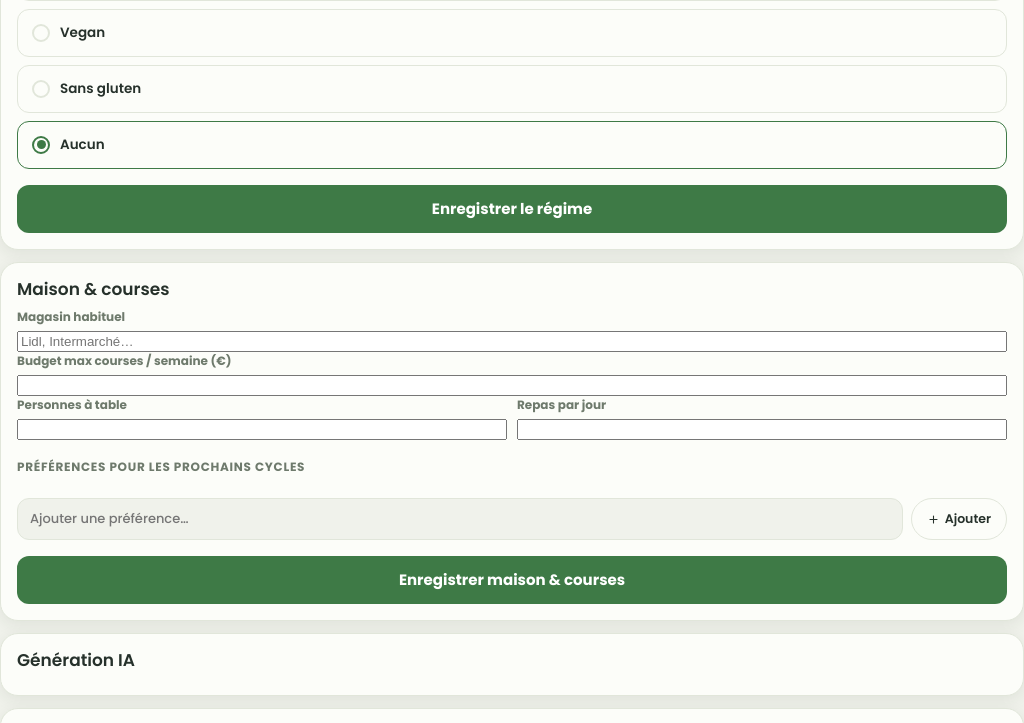
ProfilScreen — Maison & courses › enregistre la section (validation incluse)
The image size is (1024, 723).
(page scrolled)
In the field labelled "Magasin habituel": x=512, y=342 [17,331,1007,352], type "Lidl"
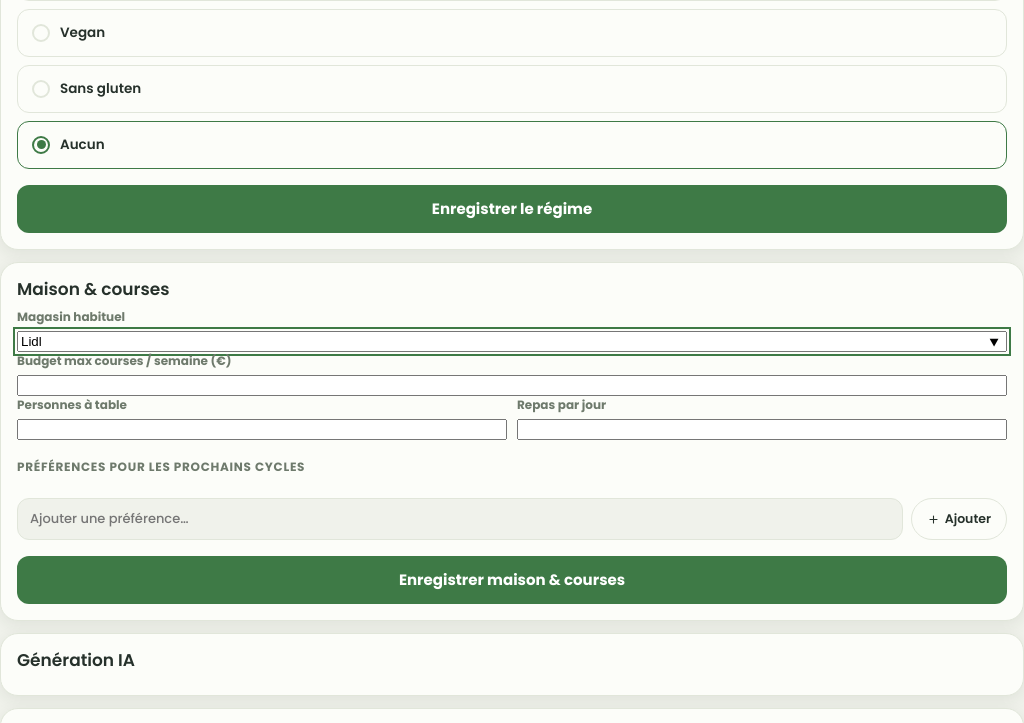
In the field labelled "Budget max courses / semaine (€)": x=512, y=386 [17,375,1007,396], type "40"
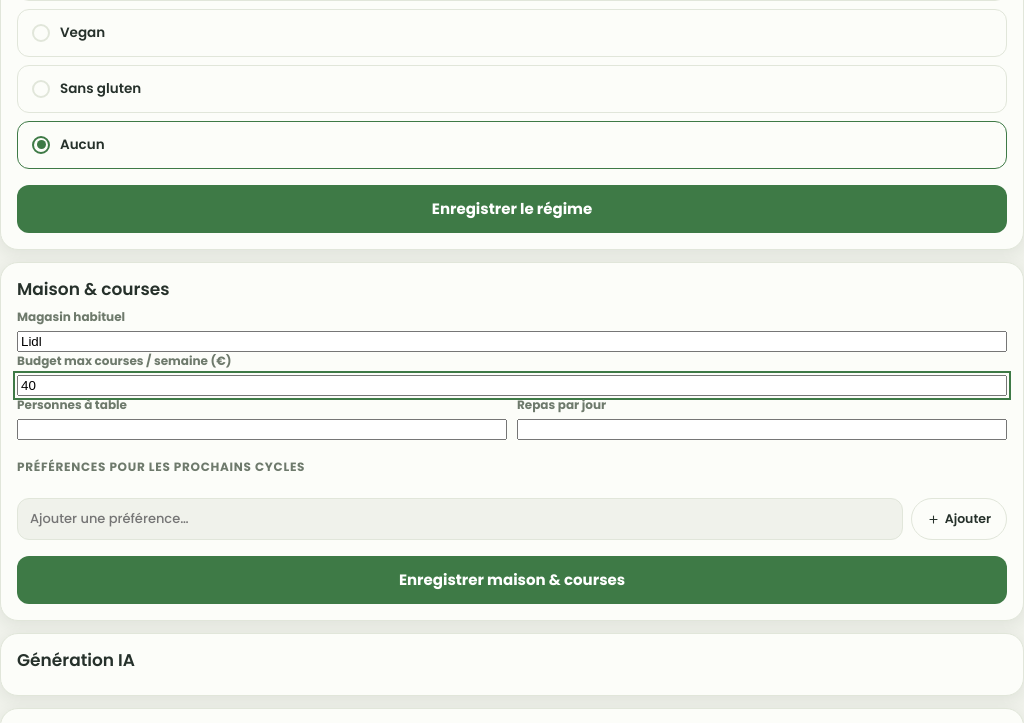
Click the button "Ajouter": x=959, y=519 [911,498,1007,540]
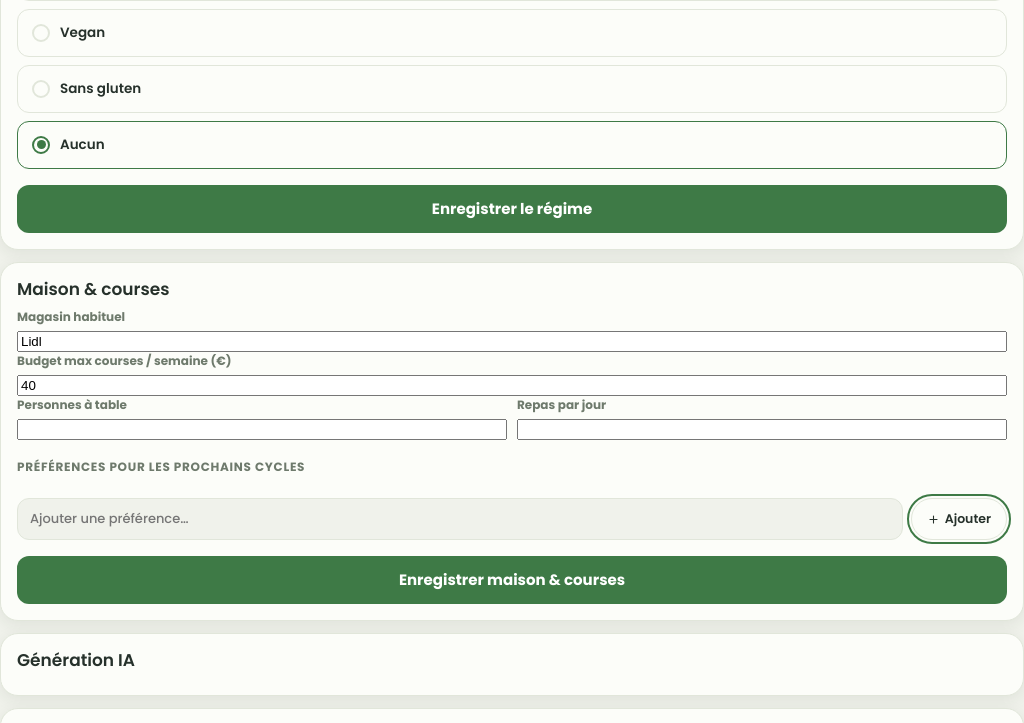
In the field labelled "Ajouter une préférence": x=460, y=519 [17,498,903,540], type "Batch-friendly"
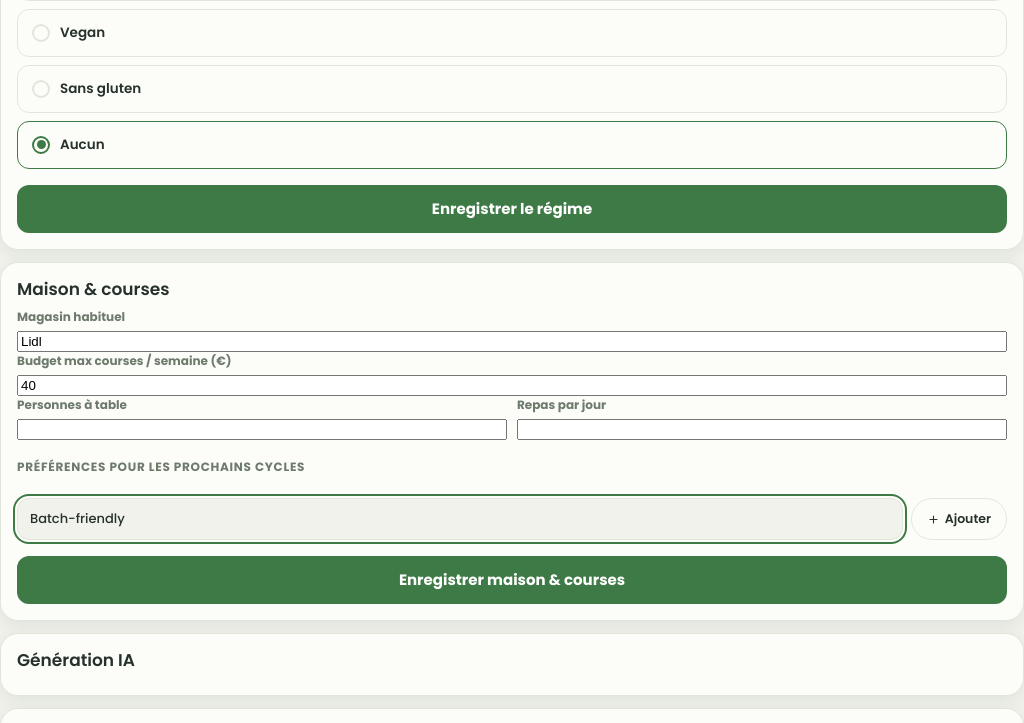
Click the button "Ajouter": x=959, y=519 [911,498,1007,540]
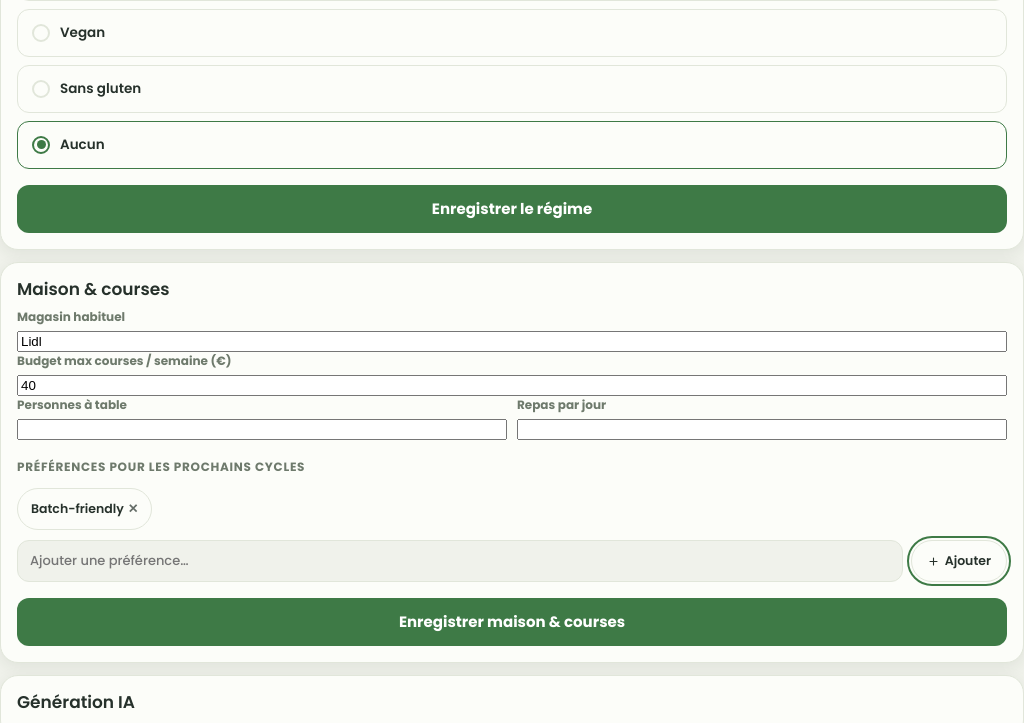
Click the button "Enregistrer maison & courses": x=512, y=622 [17,598,1007,646]
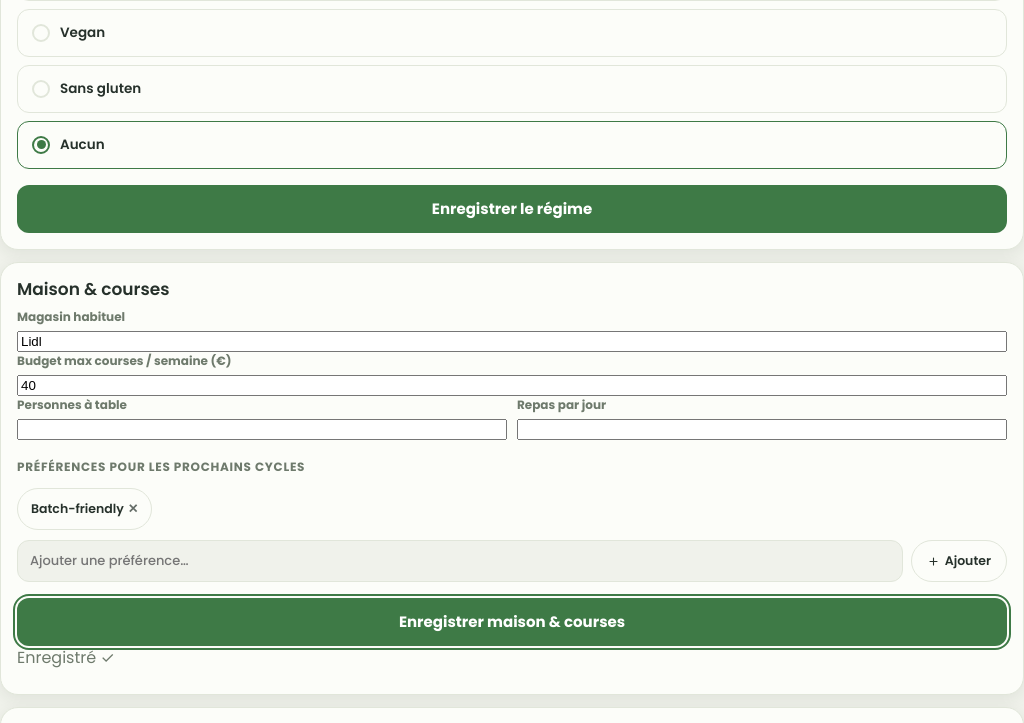
expect the message shows "Enregistré": met, box [17,646,115,669]
